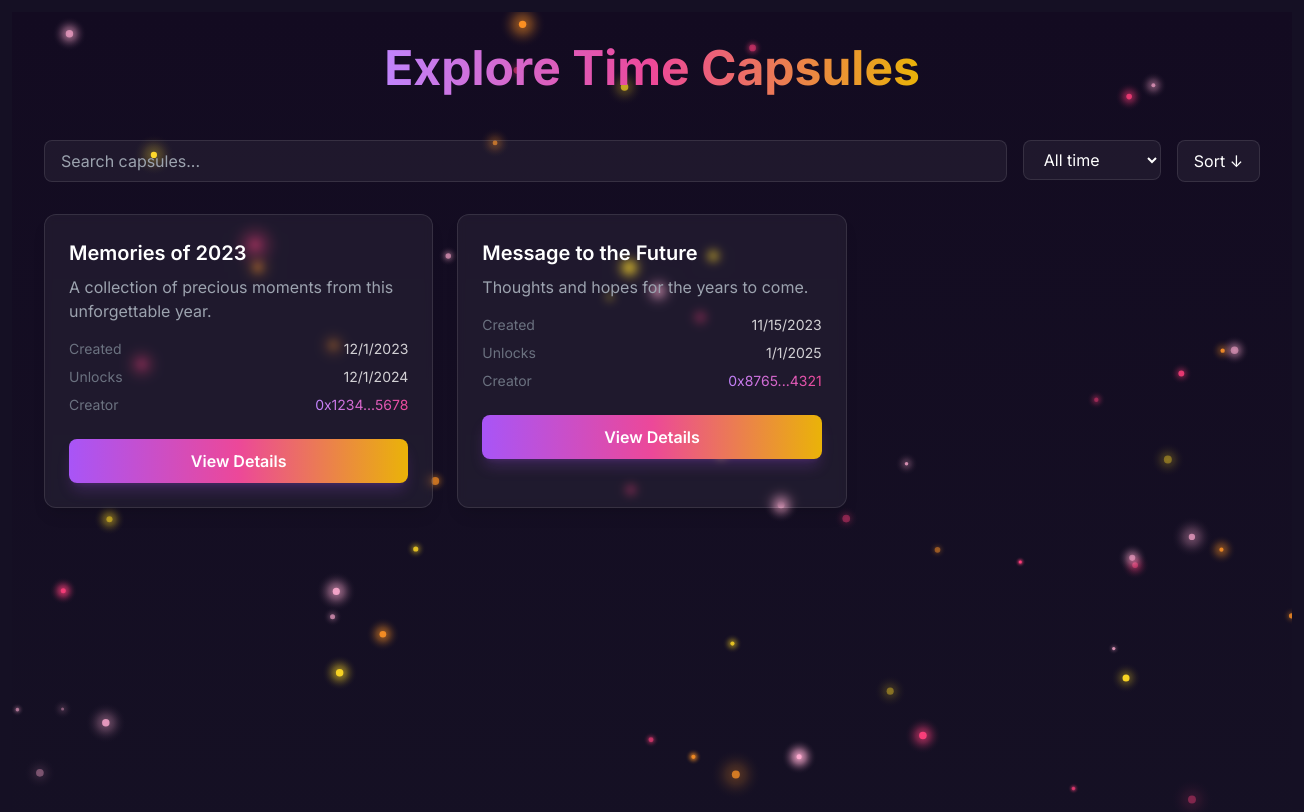
it: ExplorePage › handles no search results
// Search for non-existent capsule
In the field labelled "Search capsules...": (525, 161) [44,140,1007,182], type "NonExistentCapsule"
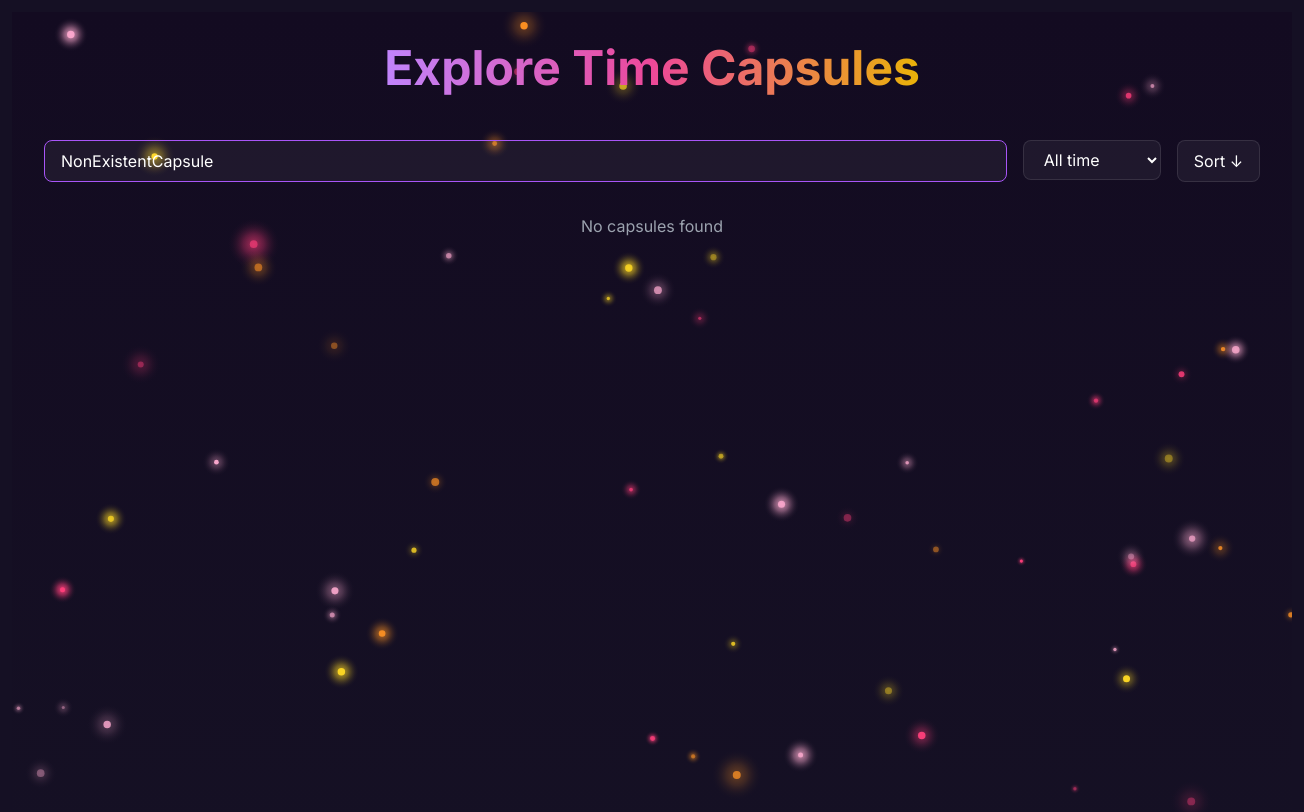
Result: the text "No capsules found" is shown at [581,216,723,236]
